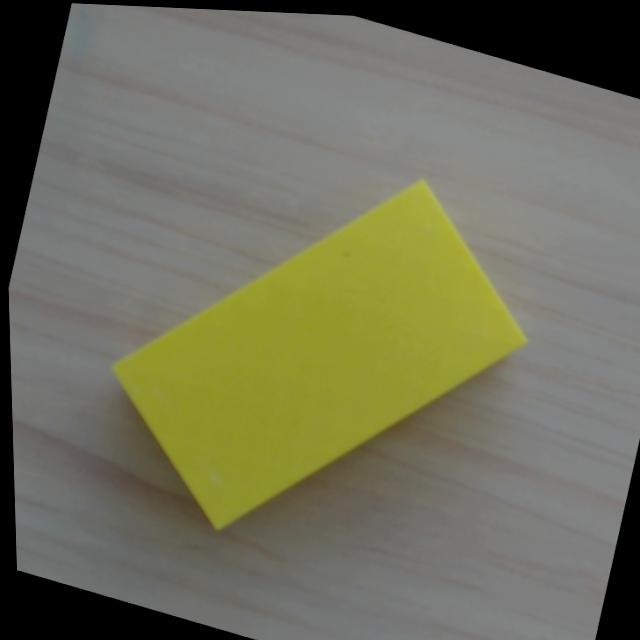Balok-Kuning-1005025: (109, 173, 527, 532)
